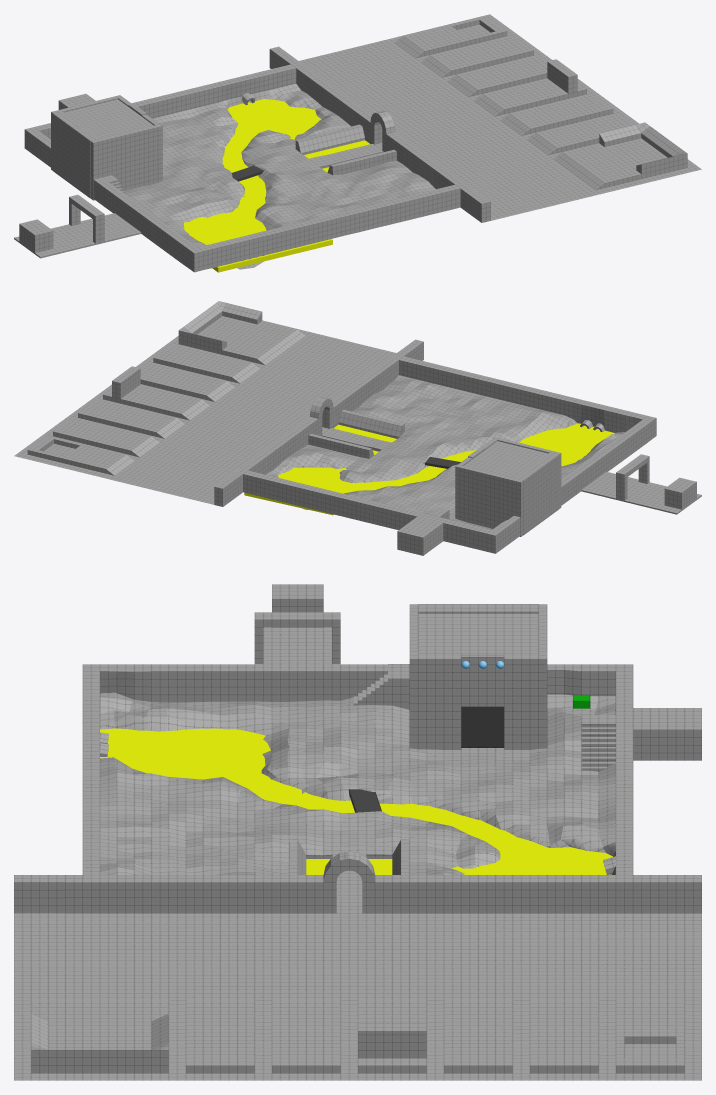
Rendered from ExampleStage.gltf.
3 renders of one model, top to bottom at view 1: azimuth 30°, elevation 25°; view 2: azimuth 150°, elevation 25°; view 3: azimuth 270°, elevation 25°, orthographic. The views are drawn at different scales.
Visible parts, largest first — view 1: Mesh; view 2: Mesh; view 3: Mesh.
Part boxes in pixels (<box>): Mesh: <box>14,14,701,272</box>; Mesh: <box>14,301,701,555</box>; Mesh: <box>14,584,701,1080</box>.
Size of the model in its own units: 128 by 15.32 by 80.
Materials: 6 (4 with a texture image).
